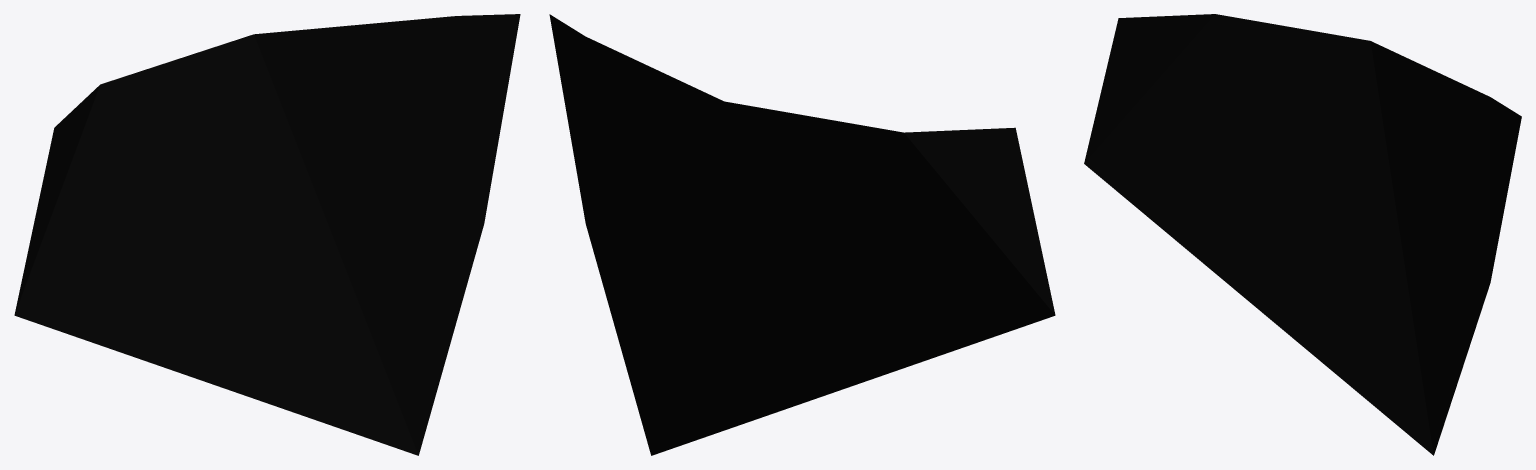
3 views of the same model, side by side, from view 1: azimuth 30°, elevation 25°; view 2: azimuth 150°, elevation 25°; view 3: azimuth 330°, elevation 25° (orthographic). The views are drawn at different scales.
Bounding box in the file's own units: 0.1823 × 0.1436 × 0.0286.
Materials: 1 (1 with a texture image).
